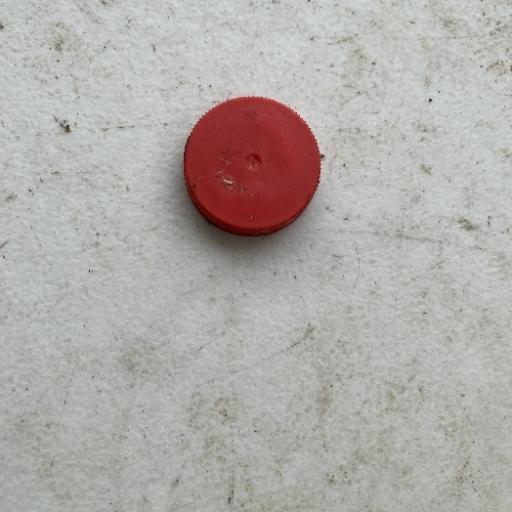Plastic: (181, 94, 322, 238)
